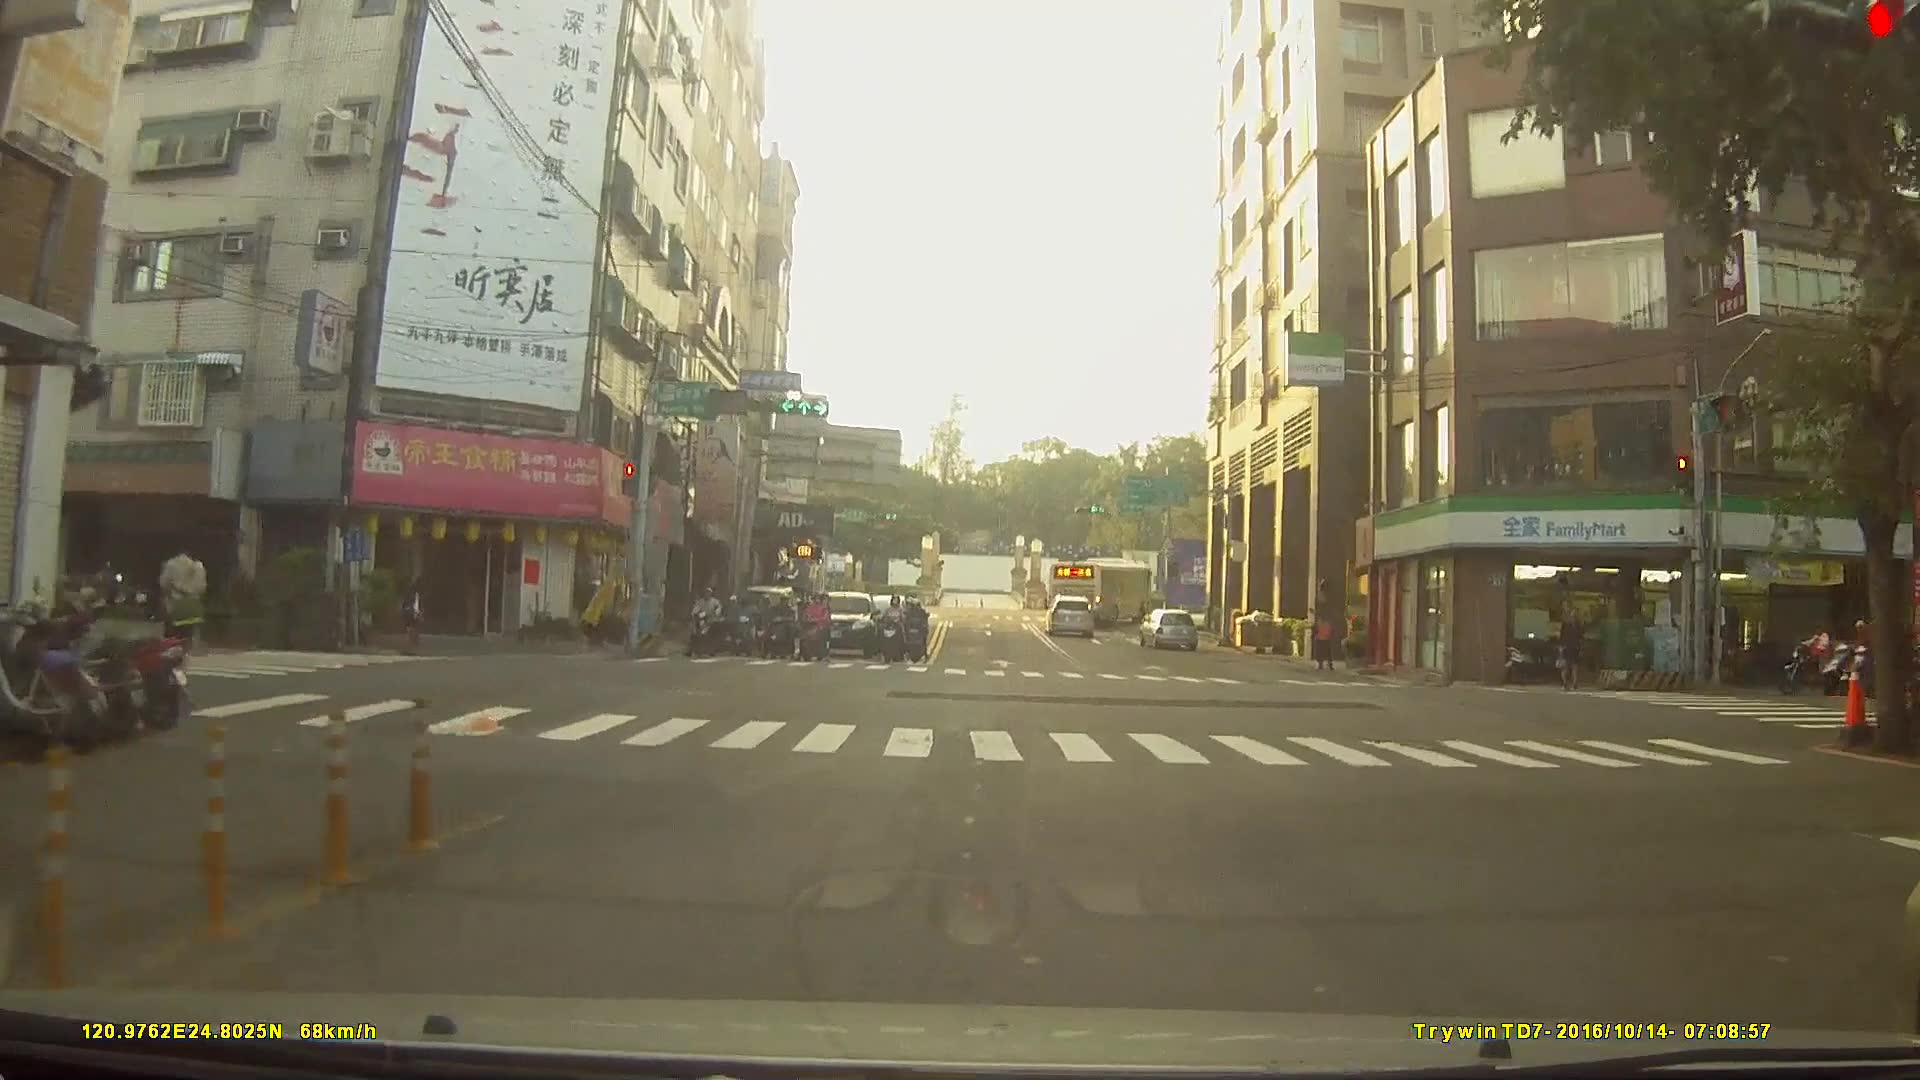pedestrian: (152, 529, 216, 697), (399, 582, 433, 660), (1557, 608, 1587, 696), (1309, 608, 1337, 673)
rider: (1782, 619, 1847, 691), (688, 586, 725, 658), (802, 589, 835, 668), (761, 596, 800, 662), (902, 601, 933, 669), (882, 606, 909, 677), (730, 597, 760, 658)
vehicle: (1046, 555, 1156, 626), (806, 587, 879, 659), (1136, 610, 1199, 652), (1043, 592, 1095, 638)
